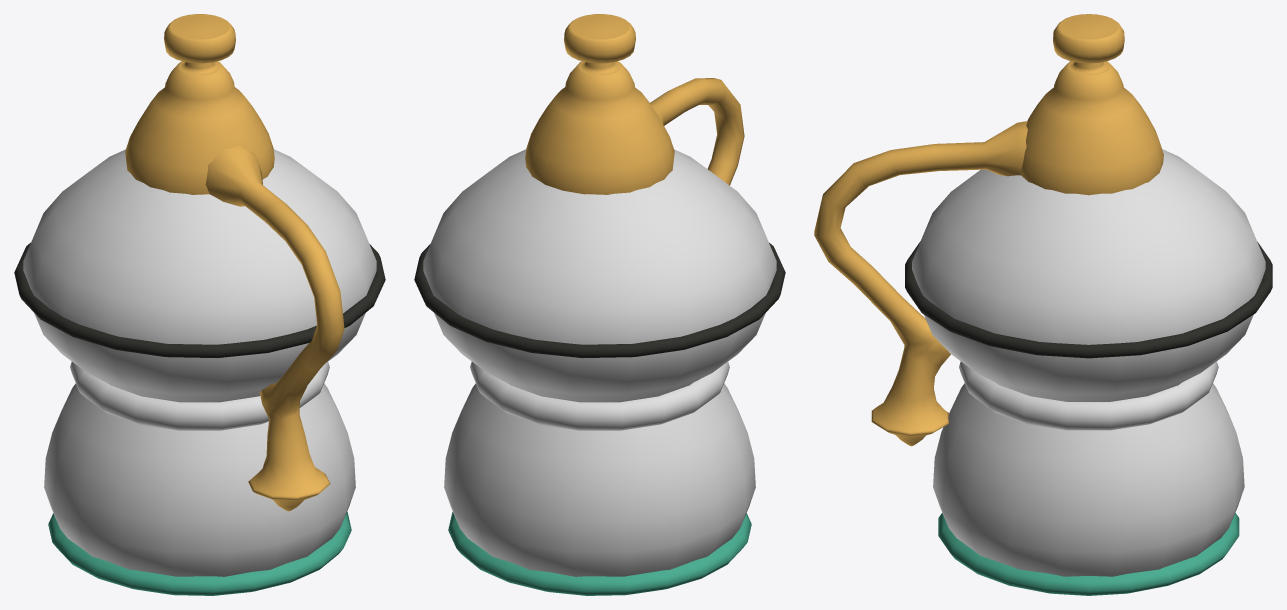
Rendered from OT_206_teapot.glb.
3 views of the same model, side by side, from view 1: azimuth 30°, elevation 25°; view 2: azimuth 150°, elevation 25°; view 3: azimuth 270°, elevation 25° (orthographic).
Visible parts, largest first — view 1: teapot; view 2: teapot; view 3: teapot.
Part boxes in pixels (box(x1,y1,x2,y2)): teapot: box(14, 14, 385, 595); teapot: box(414, 14, 785, 595); teapot: box(814, 14, 1272, 595).
Bounding box in the file's own units: 0.5733 × 0.8752 × 0.7074.
